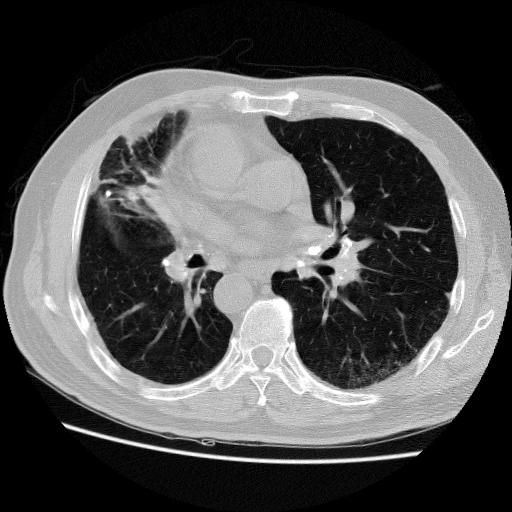nodule: (105, 187, 118, 200)
